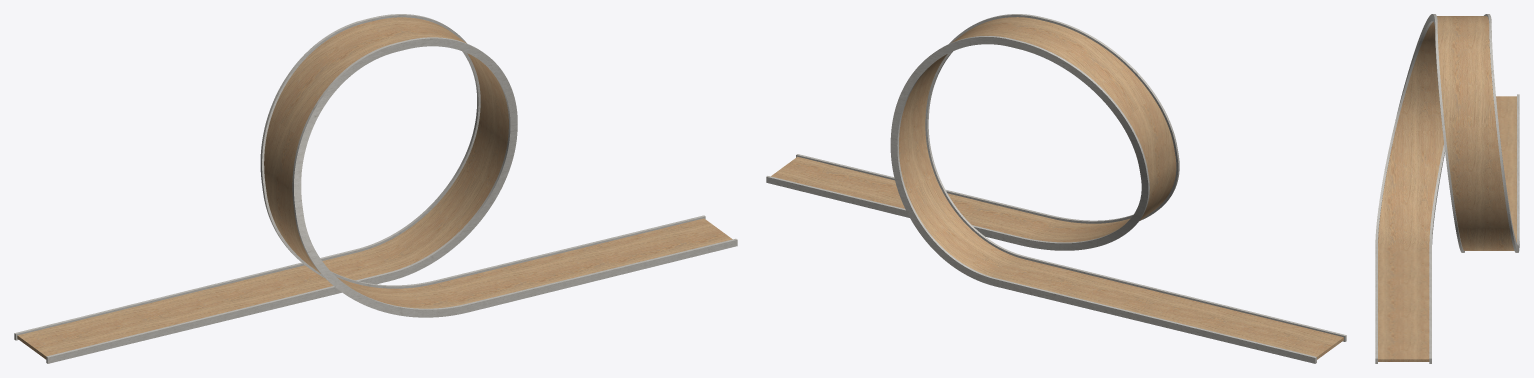
The model's file is CircleRamp.fbx.
3 renders of one model, left to right at view 1: azimuth 30°, elevation 25°; view 2: azimuth 150°, elevation 25°; view 3: azimuth 270°, elevation 25°, orthographic. The views are drawn at different scales.
Parts seen in each view (by area): view 1: Line089; view 2: Line089; view 3: Line089.
Part boxes in pixels (<box>): Line089: <box>14,14,737,363</box>; Line089: <box>766,14,1346,363</box>; Line089: <box>1375,14,1519,363</box>.
Bounding box in the file's own units: 5371 × 2021 × 1240.
Materials: 2 (2 with a texture image).
